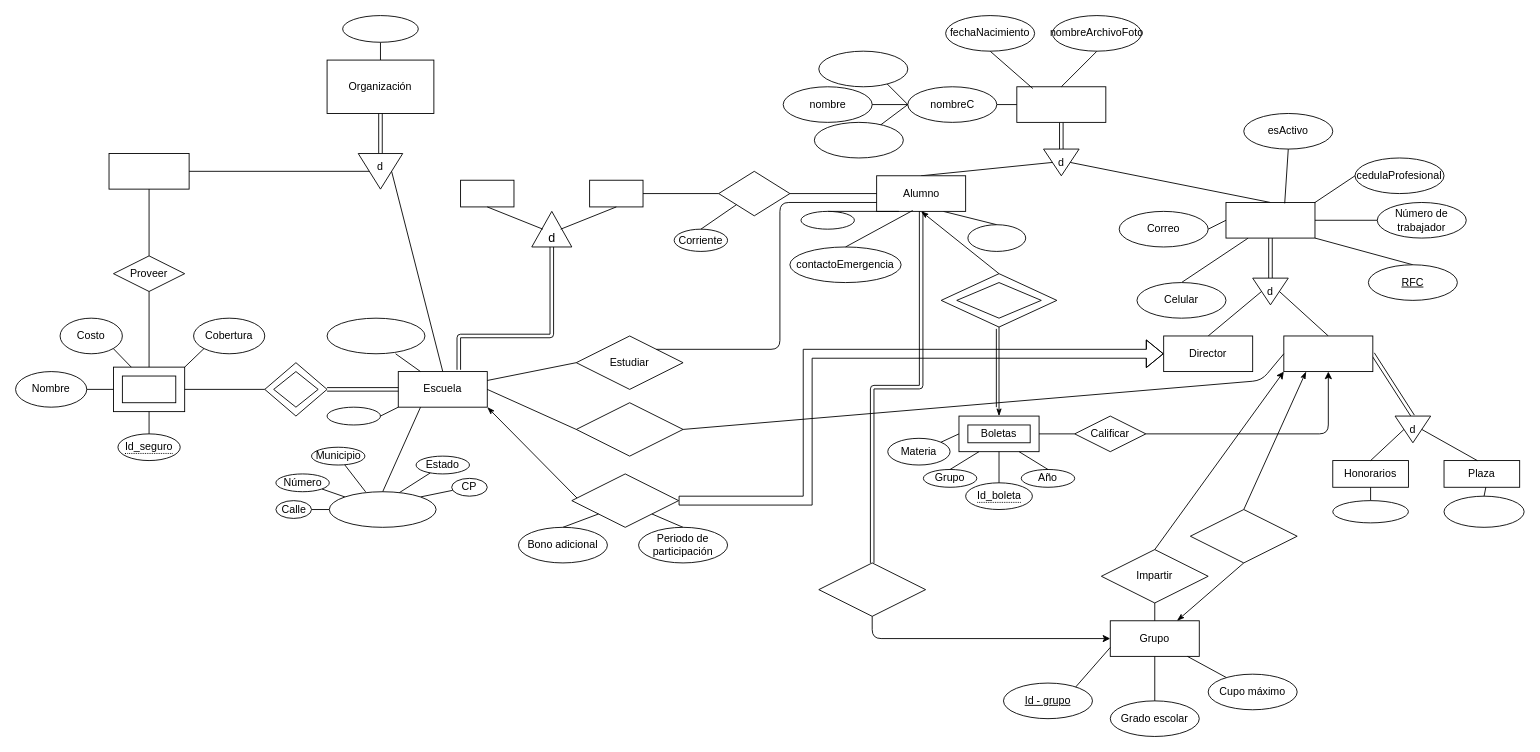
The diagram is 1540 pixels wide and 752 high, and some of its shapes have lost their labels. Here are the shapes that lost their labels. From the top down, the box of each, then its label:
(342, 15, 418, 42): RazonSocial
(818, 50, 908, 87): paterno
(1016, 86, 1106, 122): Persona
(813, 121, 903, 158): materno
(108, 153, 189, 189): Aseguradora
(460, 179, 514, 207): Pública
(589, 179, 643, 207): Privada
(718, 170, 790, 216): Pagar
(800, 210, 854, 229): CURP
(967, 224, 1026, 251): Promedio
(1225, 202, 1315, 238): Academico
(956, 282, 1041, 318): Tener_Bol
(326, 317, 425, 354): TelefonoContacto
(1283, 335, 1373, 372): Docente
(121, 375, 176, 403): Seguro
(273, 371, 318, 407): Tener
(326, 406, 380, 425): Nivel
(575, 402, 683, 456): Laborar
(328, 491, 436, 527): direcciónCompleta
(571, 473, 679, 527): Dirigir
(1332, 500, 1408, 523): pagoContrato
(1443, 495, 1524, 527): sueldoMensual
(1189, 509, 1297, 563): Titular
(818, 562, 926, 616): Pertenecer
